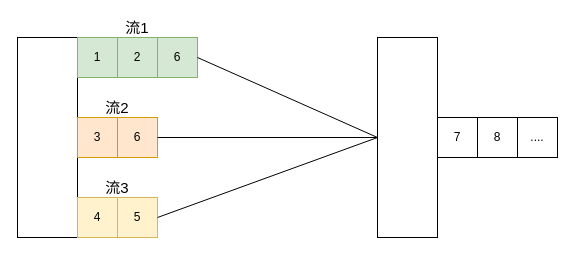
Some shapes in this 575 by 255 pixel diagram are drawn without their labels. The shapes that lost their labels are listed below. From the top down, each one's centre as x and y in pixels, then its label:
At (x=47, y=137): "客户端".
At (x=407, y=137): "TCP层".
